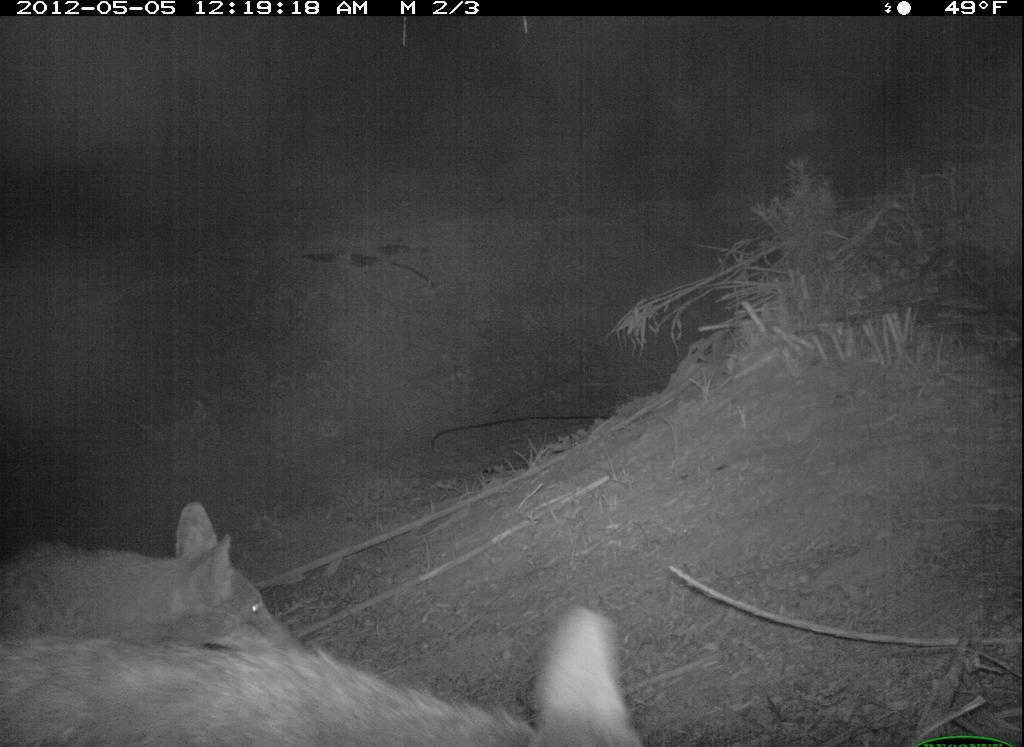coyote: (8, 602, 651, 743), (1, 498, 318, 655)
